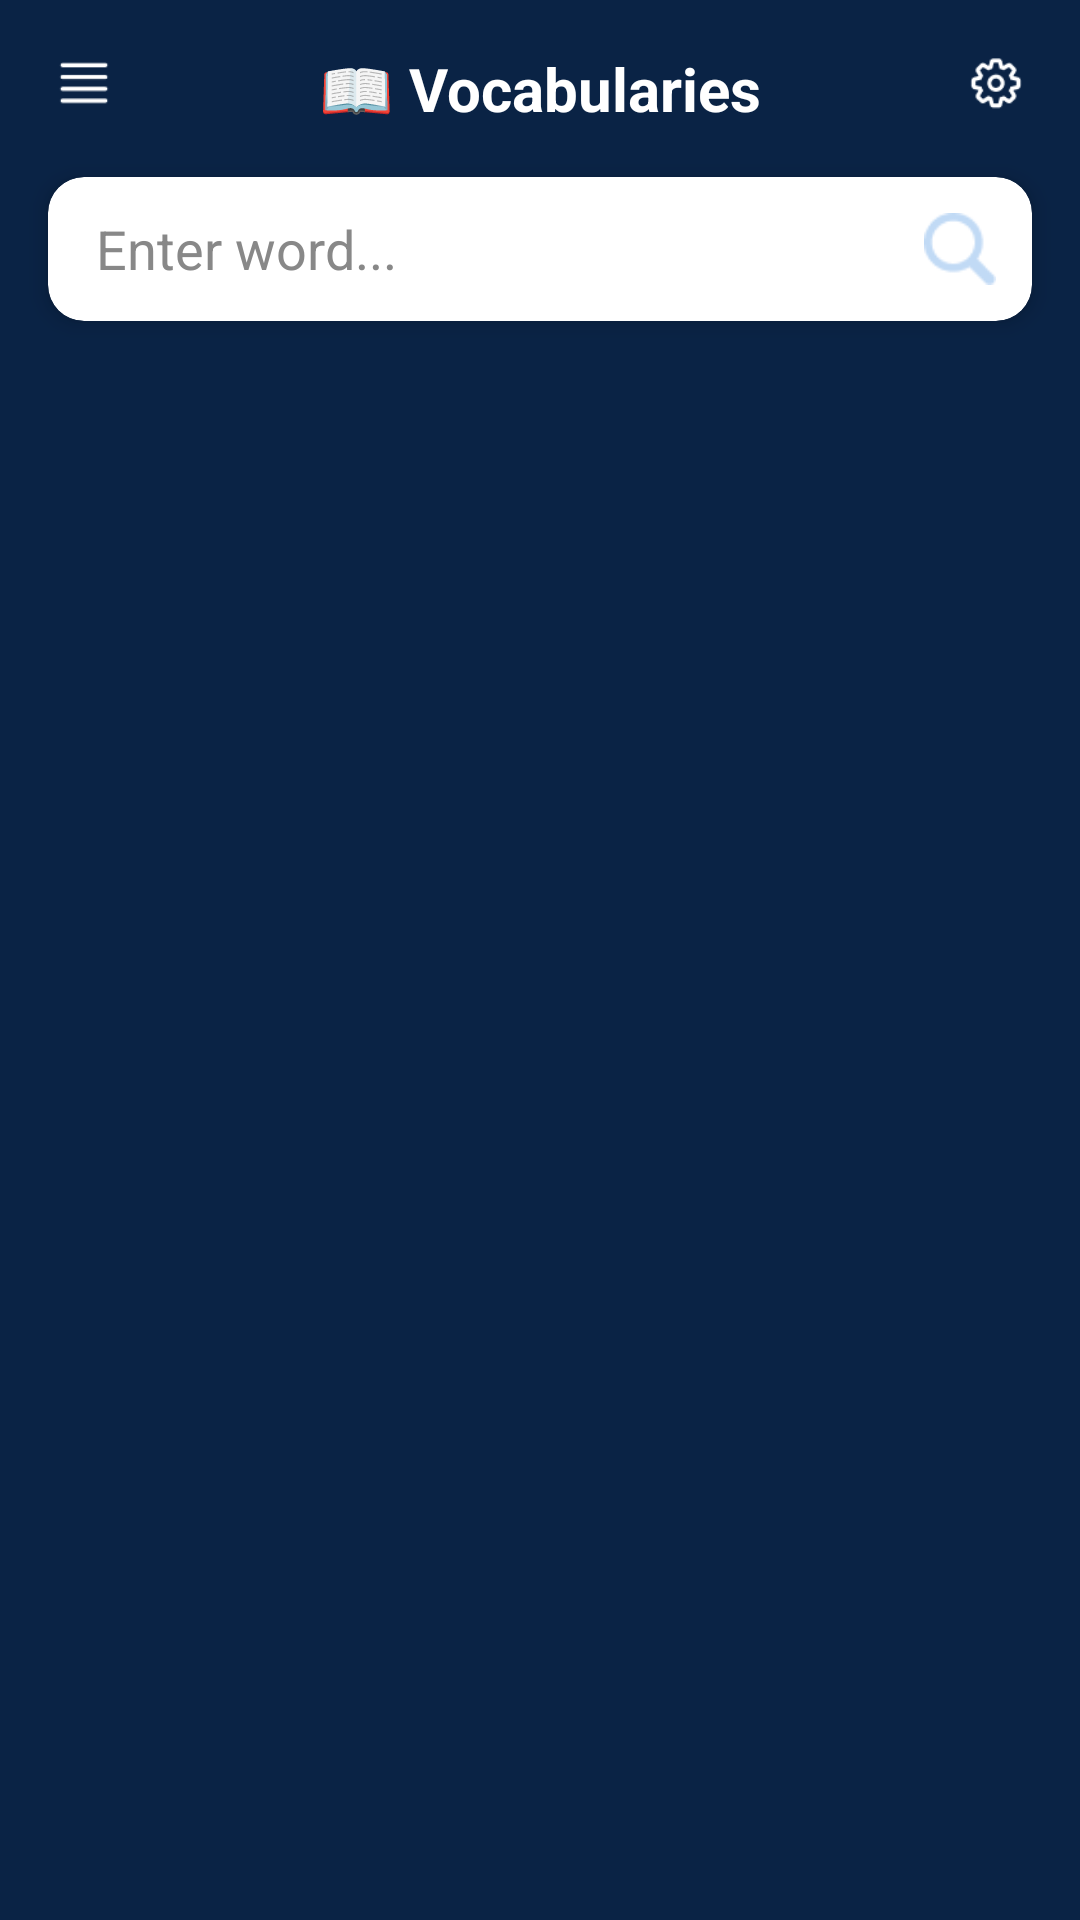

Icons on this 1080 × 1920 Android screen, each with the point to tap as point (x, y):
menu: point (84, 83)
search: point (960, 249)
setting: point (996, 83)
